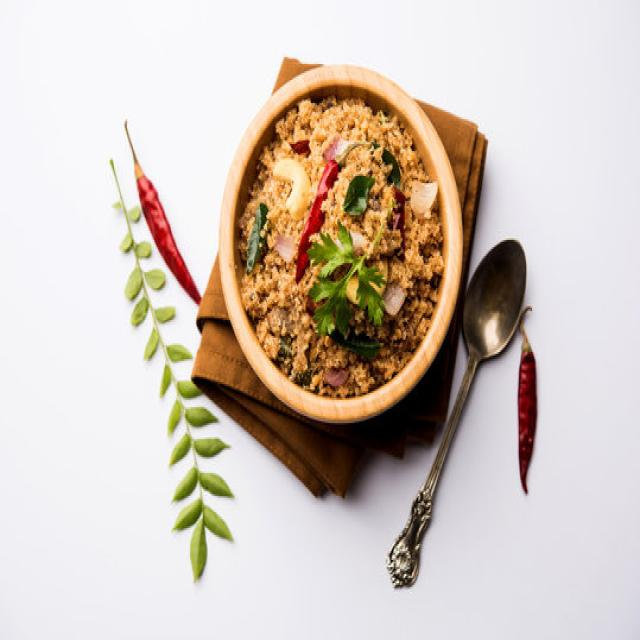UPMA: (239, 100, 443, 396)
